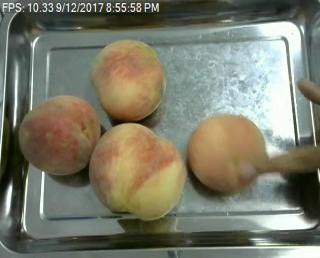Peach: (87, 122, 185, 221), (18, 94, 100, 176), (188, 113, 267, 194), (91, 37, 165, 122)
